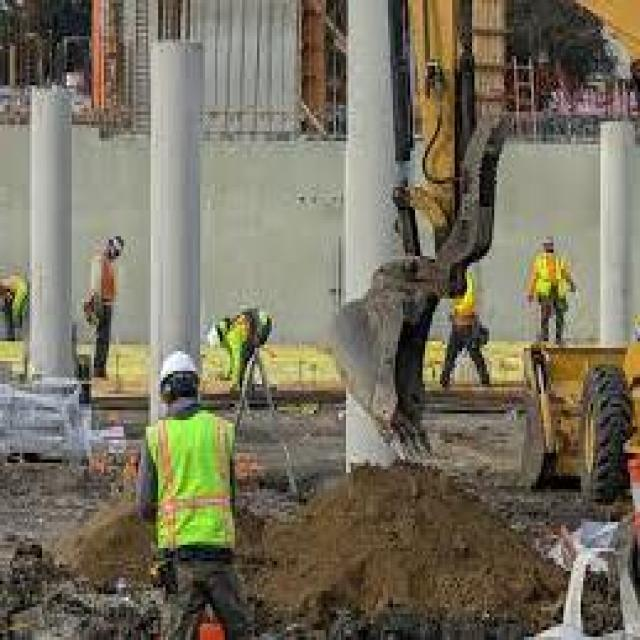Reflective-Jacket: (131, 407, 257, 578), (526, 246, 576, 315)
Safety-Helmet: (146, 338, 210, 404), (445, 272, 482, 332)
